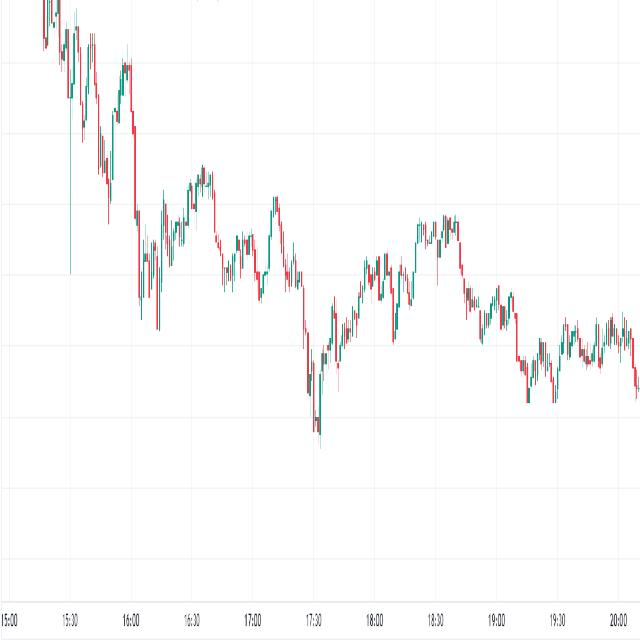Double-Bottom: (515, 305, 565, 427)
Double-Top: (484, 261, 520, 366)
Inverse-Head-Shoulders: (295, 261, 336, 457)
